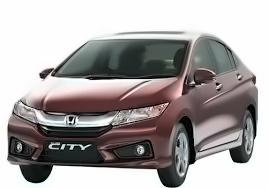Car hood: (19, 75, 184, 116)
Fender - -F-L-: (161, 80, 199, 147)
Front bumper: (7, 114, 177, 169)
Passenger-s door - -F-L-: (188, 34, 225, 162)
Passenger-s door - -R-L-: (207, 33, 244, 149)
Side bumper - -L-: (191, 116, 245, 177)
Side mirror - -L-: (192, 68, 217, 85)
Side mirror - -R-: (38, 67, 56, 79)
